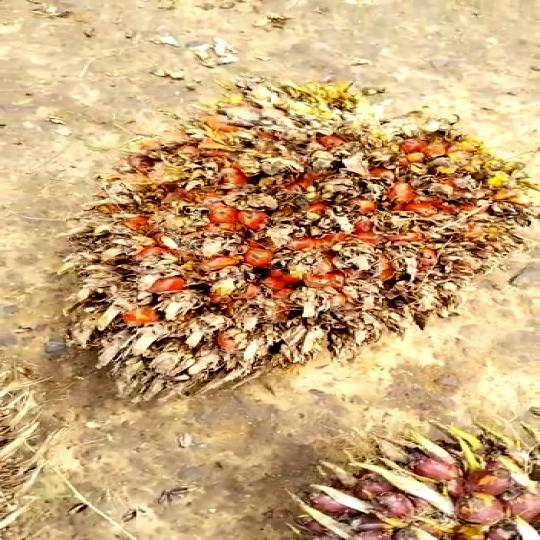terlalu masak: (38, 66, 540, 414)
